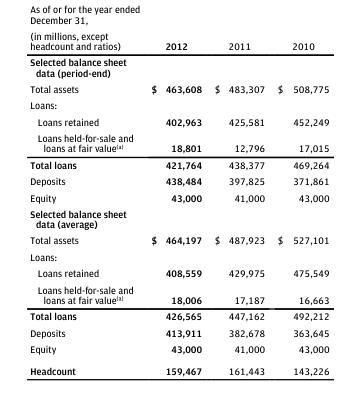table: (29, 29, 328, 375)
table column: (29, 29, 141, 375), (141, 29, 207, 375), (207, 29, 270, 375), (270, 29, 328, 375)
table column header: (29, 29, 328, 53)
table projected row header: (29, 53, 328, 80), (29, 205, 328, 231), (29, 96, 328, 112), (29, 248, 328, 264)
table row: (29, 53, 328, 80), (29, 280, 328, 307), (29, 129, 328, 155), (29, 205, 328, 231), (29, 29, 328, 53), (29, 340, 328, 359), (29, 112, 328, 129), (29, 155, 328, 172), (29, 188, 328, 205), (29, 231, 328, 248), (29, 323, 328, 340), (29, 80, 328, 96), (29, 96, 328, 112), (29, 172, 328, 188), (29, 248, 328, 264), (29, 264, 328, 280), (29, 307, 328, 323), (29, 359, 328, 375)
